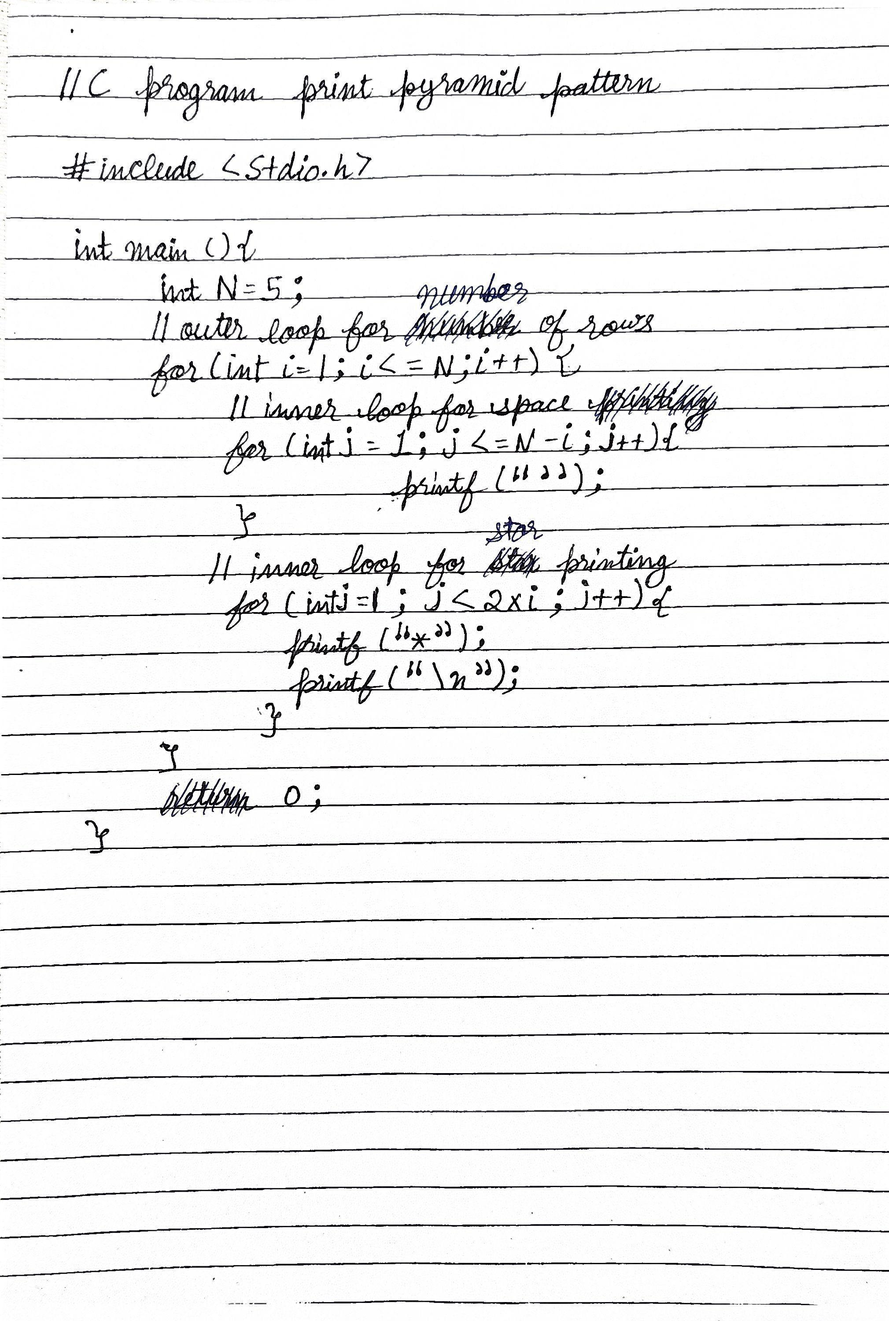cuttings: (585, 381, 720, 431), (406, 308, 522, 343), (160, 778, 258, 817), (482, 548, 542, 577)
